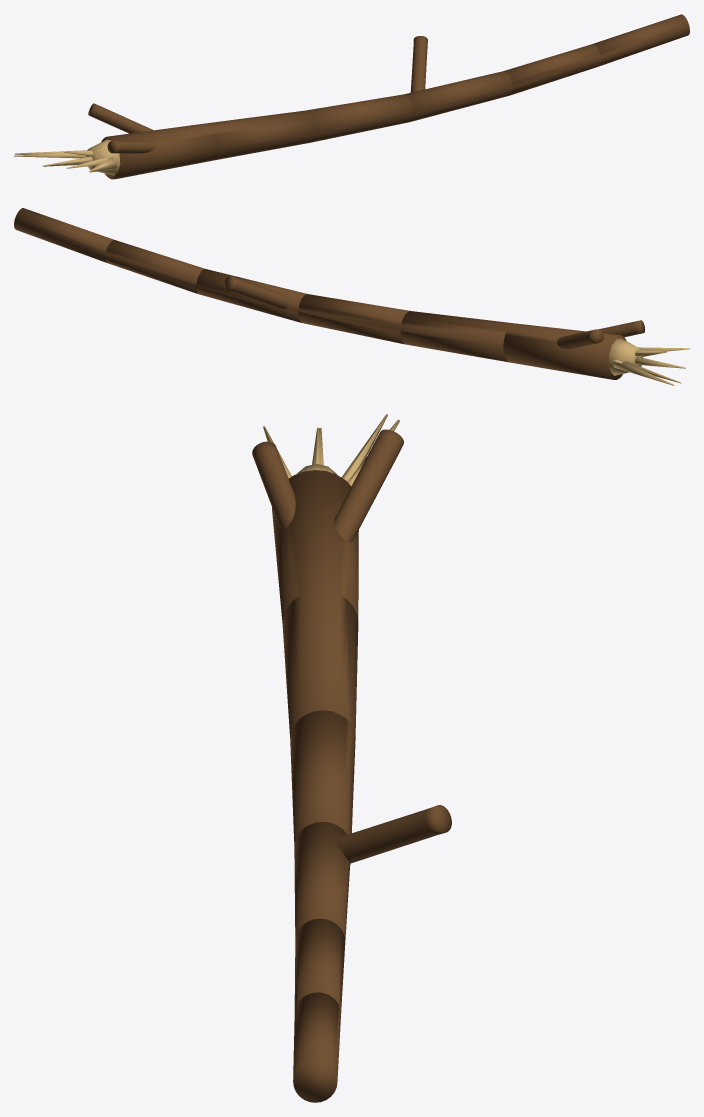
The picture shows the model from 3 angles, top to bottom: view 1: azimuth 30°, elevation 25°; view 2: azimuth 150°, elevation 25°; view 3: azimuth 270°, elevation 25°; orthographic projection. The views are drawn at different scales.
Parts seen in each view (by area): view 1: Shaft, FrayedTip, Branch1, ForkA, ForkB; view 2: Shaft, FrayedTip, Branch1, ForkA, ForkB; view 3: Shaft, Branch1, ForkA, ForkB, FrayedTip.
Part boxes in pixels (box(x1,y1,x2,y2)): Shaft: box(101, 14, 689, 179); FrayedTip: box(14, 139, 120, 175); Branch1: box(410, 36, 427, 92); ForkA: box(88, 103, 153, 133); ForkB: box(107, 140, 156, 153); Shaft: box(14, 208, 626, 379); FrayedTip: box(608, 338, 689, 385); Branch1: box(223, 276, 289, 309); ForkA: box(557, 329, 603, 349); ForkB: box(599, 320, 644, 337); Shaft: box(272, 470, 358, 1102); Branch1: box(335, 805, 451, 863); ForkA: box(333, 429, 403, 542); ForkB: box(252, 441, 295, 529); FrayedTip: box(263, 414, 399, 486).
Bounding box in the file's own units: 0.5921 × 0.0669 × 0.0784.
